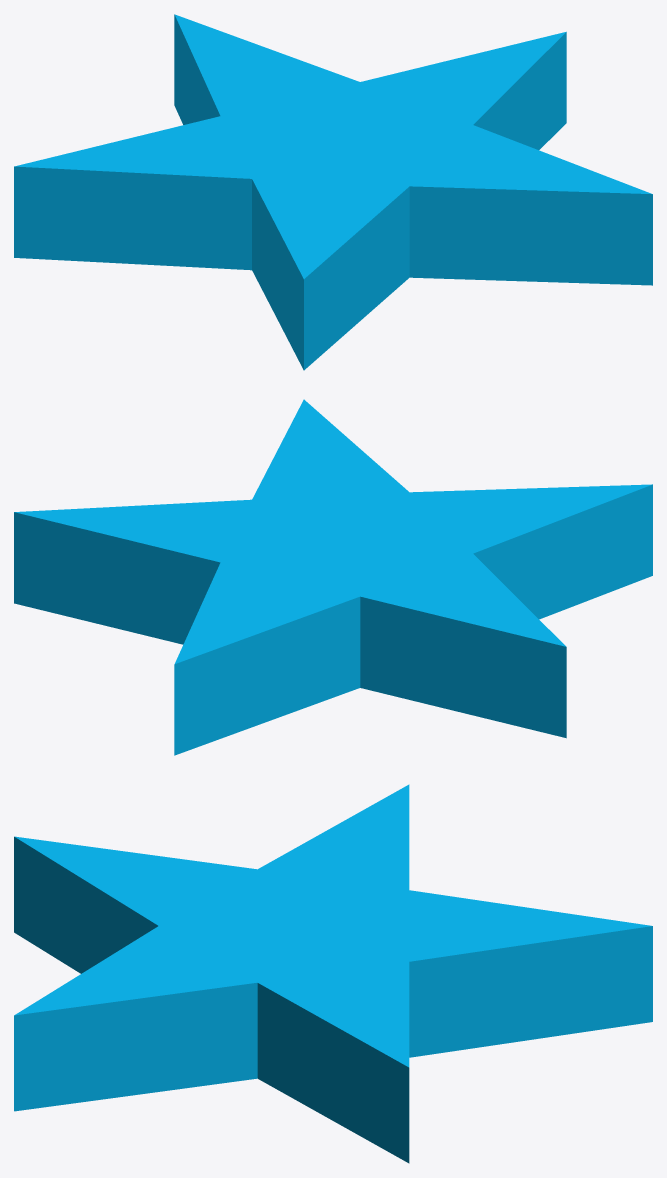
Rendered from polyline.gltf.
The picture shows the model from 3 angles, top to bottom: view 1: azimuth 30°, elevation 25°; view 2: azimuth 150°, elevation 25°; view 3: azimuth 270°, elevation 25°; orthographic projection. The views are drawn at different scales.
Visible parts, largest first — view 1: Gövde; view 2: Gövde; view 3: Gövde.
Part boxes in pixels (x1,y1,x2,y2): Gövde: (14,14,652,370); Gövde: (14,399,652,755); Gövde: (14,784,652,1163).
Bounding box in the file's own units: 0.019 × 0.003 × 0.0181.
